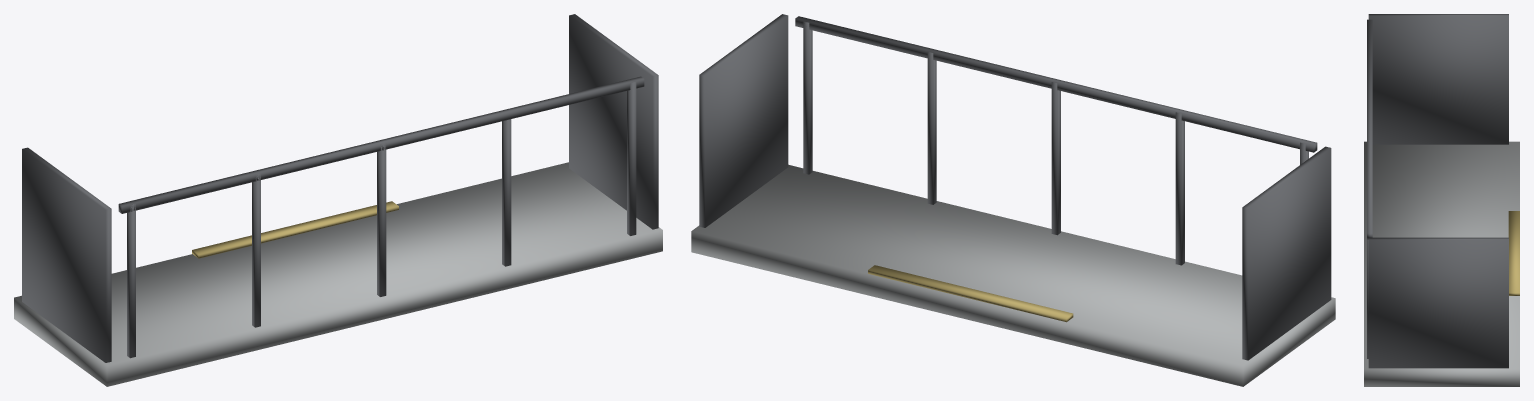
File: steel_w380_d110_door.glb
3 views of the same model, side by side, from view 1: azimuth 30°, elevation 25°; view 2: azimuth 150°, elevation 25°; view 3: azimuth 270°, elevation 25° (orthographic). The views are drawn at different scales.
Visible parts, largest first — view 1: world; view 2: world; view 3: world.
Part boxes in pixels (left/top/right/bottom): world: left=14, top=14, right=662, bottom=386; world: left=691, top=14, right=1335, bottom=386; world: left=1364, top=14, right=1519, bottom=386.
Bounding box in the file's own units: 3.8 × 1.14 × 1.1.
